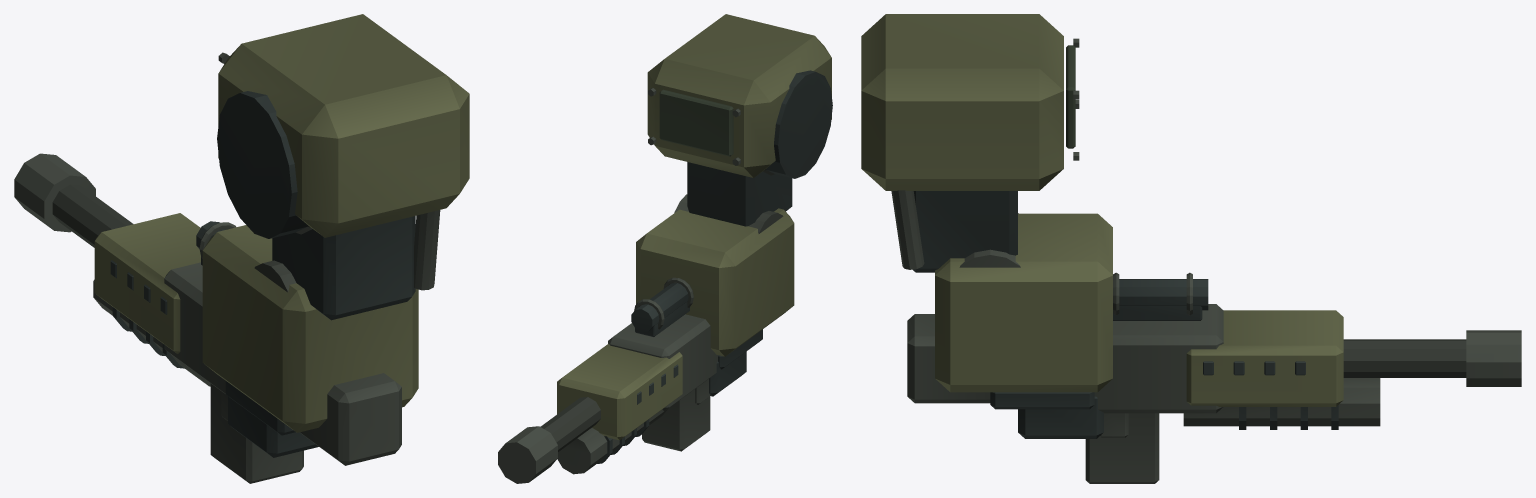
File: right_arm.glb
3 renders of one model, left to right at view 1: azimuth 30°, elevation 25°; view 2: azimuth 150°, elevation 25°; view 3: azimuth 270°, elevation 25°, orthographic. The views are drawn at different scales.
Visible parts, largest first — view 1: Shoulder_armour.001, Forearm_armour.001, Upper_arm_drive.001, Shoulder_coupling.001, Rifle_handguard, AR40_Longhorn_Stock, AR40_Longhorn_Magazine, AR40_Muzzle, AR40_Longhorn_Receiver, AR40_Barrel, Hand_palm.001, Arm_ram (+3 smaller); view 2: Shoulder_armour.001, Forearm_armour.001, Rifle_handguard, Shoulder_coupling.001, Upper_arm_drive.001, AR40_Longhorn_Receiver, Shoulder_camo.001, AR40_Longhorn_Magazine, AR40_Muzzle, AR40_Grenade_launcher, AR40_Barrel, Rifle_optic (+4 smaller); view 3: Shoulder_armour.001, Forearm_armour.001, Rifle_handguard, AR40_Longhorn_Receiver, Upper_arm_drive.001, AR40_Barrel, AR40_Grenade_launcher, AR40_Longhorn_Magazine, AR40_Longhorn_Stock, AR40_Muzzle, Hand_palm.001, Rifle_optic (+5 smaller).
Part boxes in pixels (box(x1,y1,x2,y2)): Shoulder_armour.001: box(218, 14, 469, 237); Forearm_armour.001: box(202, 225, 418, 432); Upper_arm_drive.001: box(272, 216, 415, 320); Shoulder_coupling.001: box(217, 91, 307, 238); Rifle_handguard: box(94, 213, 200, 353); AR40_Longhorn_Stock: box(300, 373, 401, 465); AR40_Longhorn_Magazine: box(210, 383, 303, 483); AR40_Muzzle: box(14, 153, 95, 232); AR40_Longhorn_Receiver: box(164, 262, 225, 393); AR40_Barrel: box(52, 184, 133, 247); Hand_palm.001: box(228, 396, 318, 457); Arm_ram: box(414, 210, 440, 290); Shoulder_armour.001: box(647, 14, 831, 177); Forearm_armour.001: box(636, 208, 794, 356); Rifle_handguard: box(557, 343, 682, 440); Shoulder_coupling.001: box(766, 70, 832, 178); Upper_arm_drive.001: box(687, 162, 792, 226); AR40_Longhorn_Receiver: box(608, 314, 718, 411); Shoulder_camo.001: box(659, 89, 733, 156); AR40_Longhorn_Magazine: box(642, 389, 710, 451); AR40_Muzzle: box(498, 426, 557, 483); AR40_Grenade_launcher: box(557, 408, 668, 474); AR40_Barrel: box(540, 397, 600, 451); Rifle_optic: box(631, 283, 688, 332); Shoulder_armour.001: box(861, 14, 1063, 190); Forearm_armour.001: box(935, 213, 1112, 392); Rifle_handguard: box(1186, 310, 1343, 406); AR40_Longhorn_Receiver: box(1094, 304, 1223, 413); Upper_arm_drive.001: box(913, 191, 1017, 272); AR40_Barrel: box(1343, 339, 1466, 377); AR40_Grenade_launcher: box(1183, 378, 1380, 426); AR40_Longhorn_Magazine: box(1085, 413, 1159, 483); AR40_Longhorn_Stock: box(907, 314, 990, 403); AR40_Muzzle: box(1466, 330, 1521, 386); Hand_palm.001: box(1018, 396, 1103, 438); Rifle_optic: box(1119, 279, 1208, 310).
Size of the model in its own units: 0.3 by 0.775 by 1.08.
